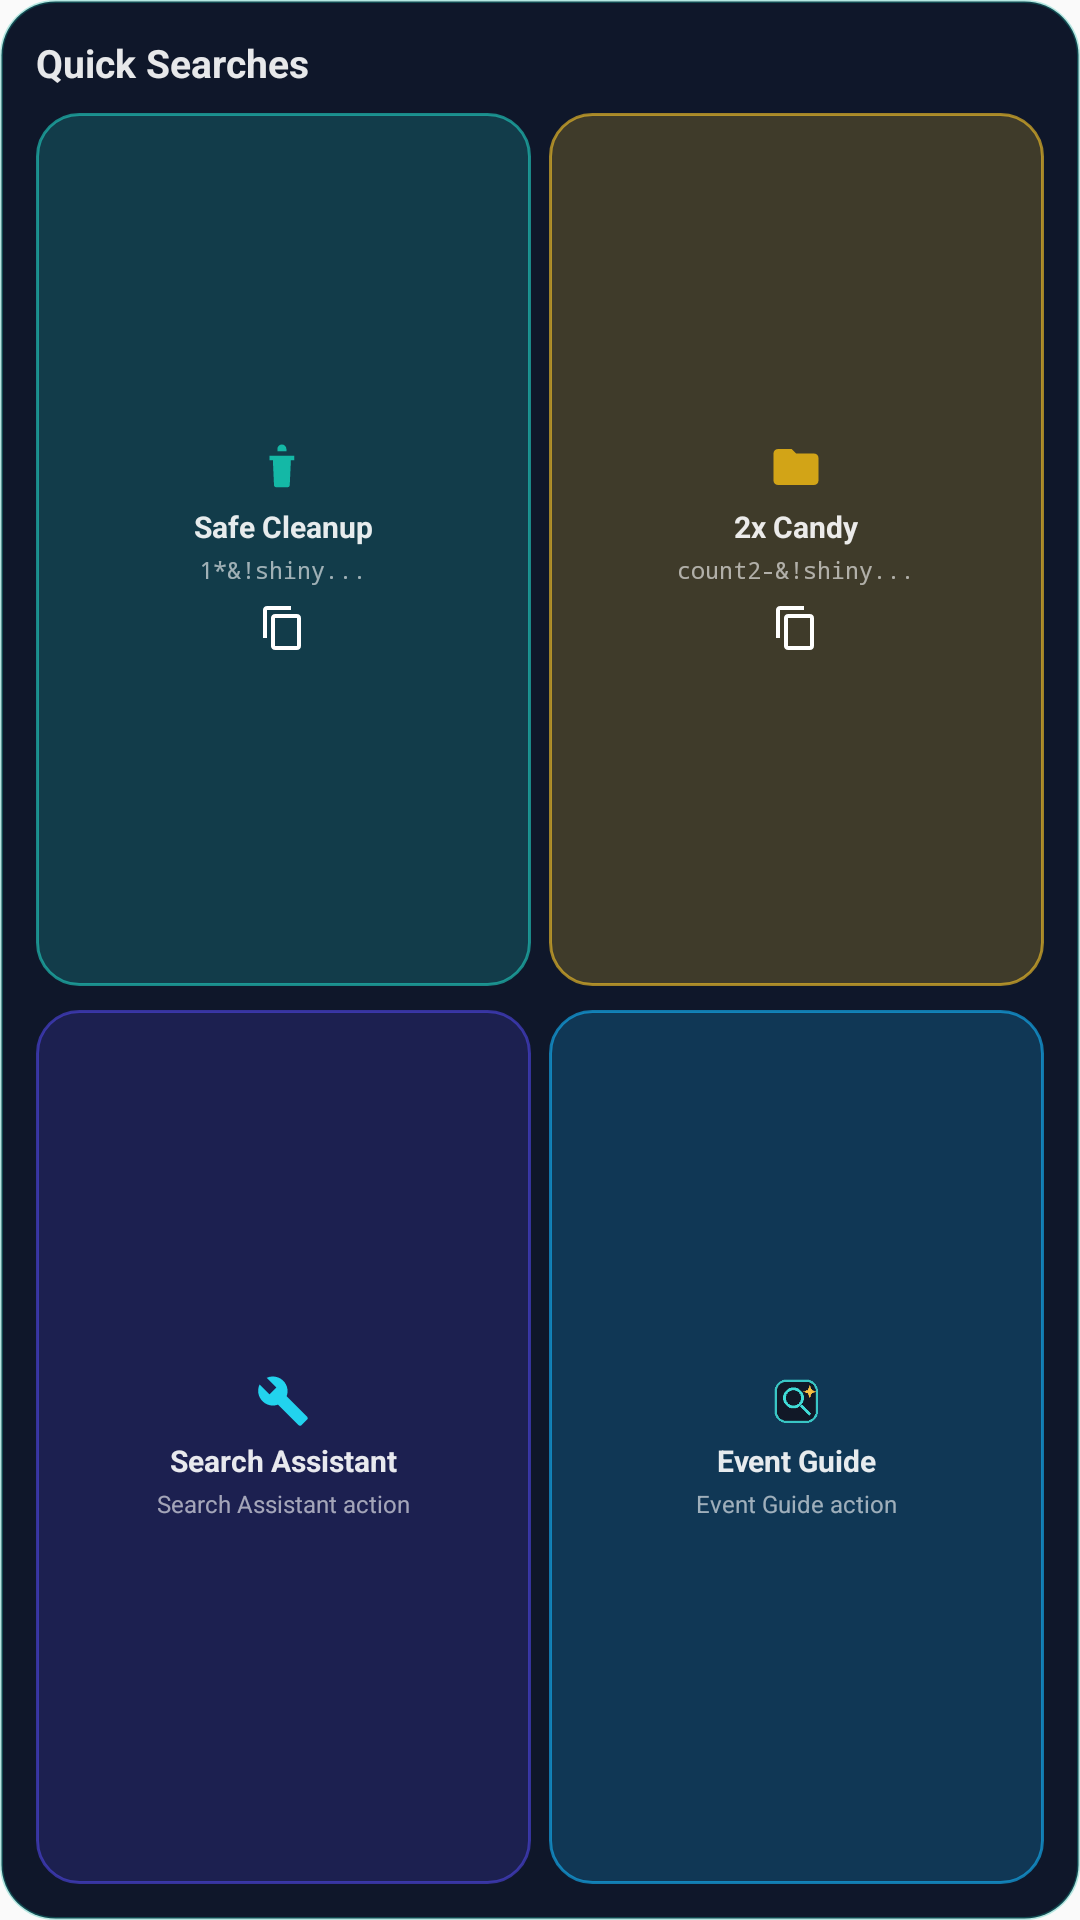

Screen size 1080w x 1920h. Icon name, then its center in pixels as (x,y):
Copy search: (282,628), (795,628)
